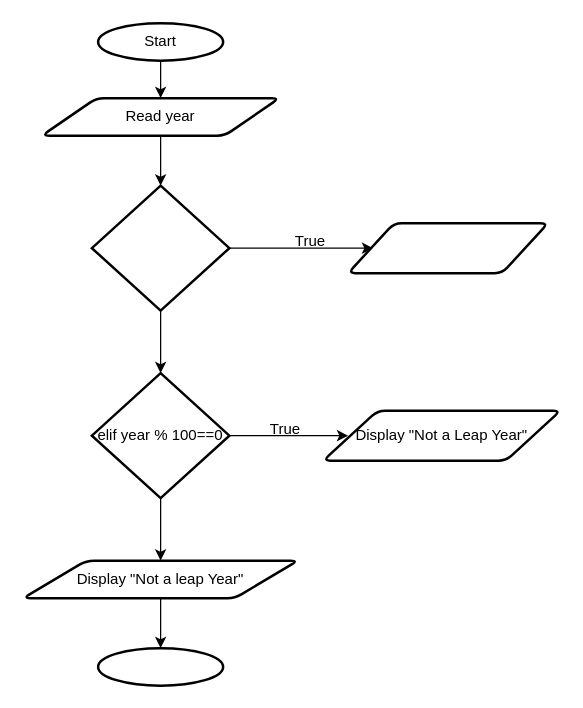
The diagram is 583 pixels wide and 708 high, and some of its shapes have lost their labels. The centre of each missing label's shape, as x and y in pixels:
Display "Leap Year": point (447, 247)
if year % 400 == 0: point (160, 247)
Stop: point (160, 666)
